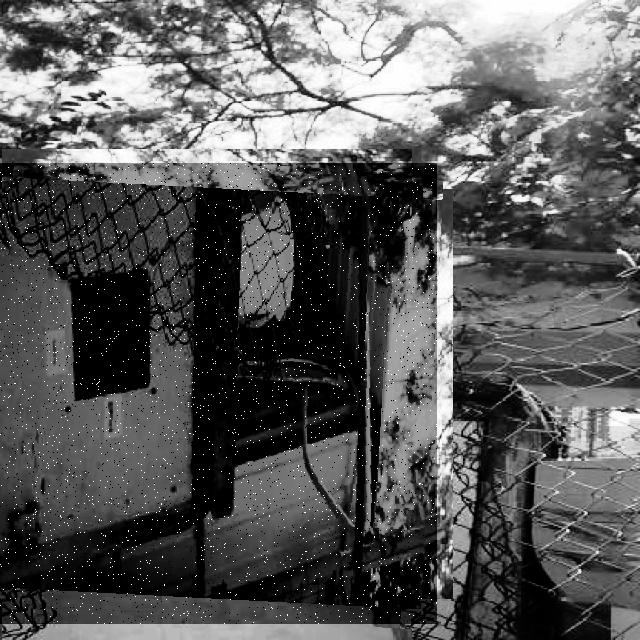anomaly-fence: (0, 163, 437, 624)
